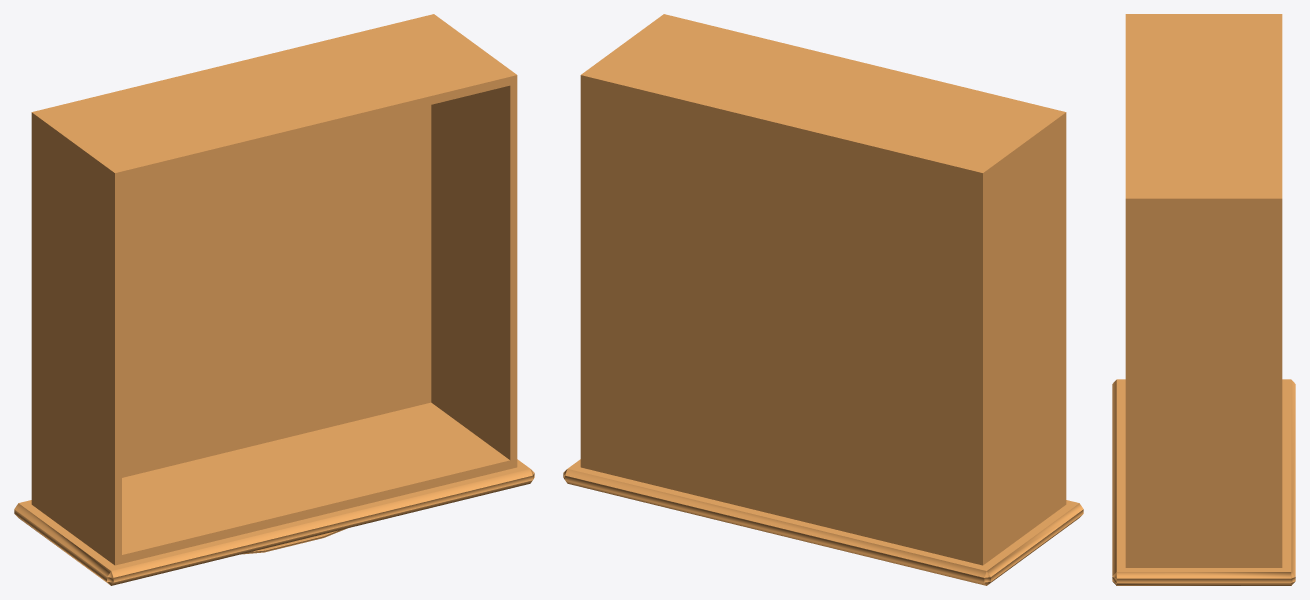
File: DrawermeshDresserDrawer_213_3_8.obj
The picture shows the model from 3 angles, left to right: view 1: azimuth 30°, elevation 25°; view 2: azimuth 150°, elevation 25°; view 3: azimuth 270°, elevation 25°; orthographic projection. The views are drawn at different scales.
Visible parts, largest first — view 1: DresserDrawer_213_3; view 2: DresserDrawer_213_3; view 3: DresserDrawer_213_3.
Part boxes in pixels (x1,y1,x2,y2): DresserDrawer_213_3: [14, 14, 534, 585]; DresserDrawer_213_3: [563, 14, 1083, 585]; DresserDrawer_213_3: [1112, 14, 1295, 585].
Bounding box in the file's own units: 0.5088 × 0.4821 × 0.201.
